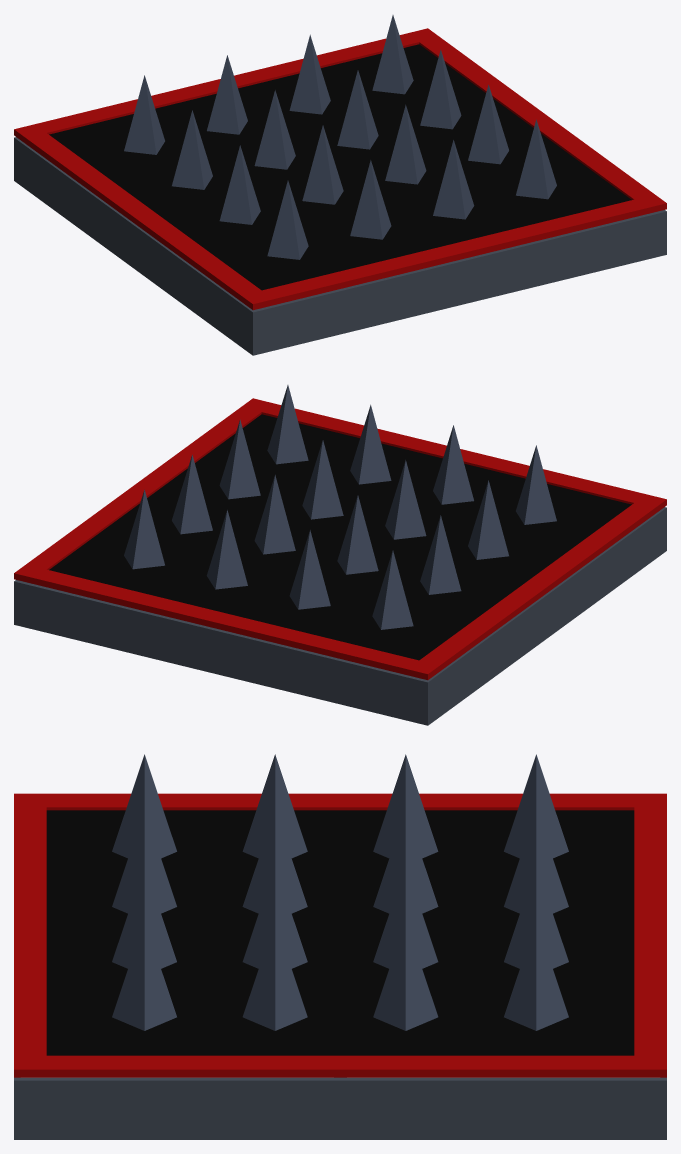
The model's file is SM_Spikes_Anim.glb.
3 renders of one model, top to bottom at view 1: azimuth 30°, elevation 25°; view 2: azimuth 150°, elevation 25°; view 3: azimuth 270°, elevation 25°, orthographic. The views are drawn at different scales.
Visible parts, largest first — view 1: Spikes_Base, Spikes_Cones; view 2: Spikes_Base, Spikes_Cones; view 3: Spikes_Base, Spikes_Cones.
Boxes of the visible parts, x1,y1,x2,y2 form: Spikes_Base: (14, 28, 666, 355); Spikes_Cones: (124, 15, 556, 259); Spikes_Base: (14, 398, 666, 725); Spikes_Cones: (124, 385, 556, 629); Spikes_Base: (14, 793, 666, 1139); Spikes_Cones: (112, 754, 568, 1030).
Size of the model in its own units: 2 by 0.558 by 2.
